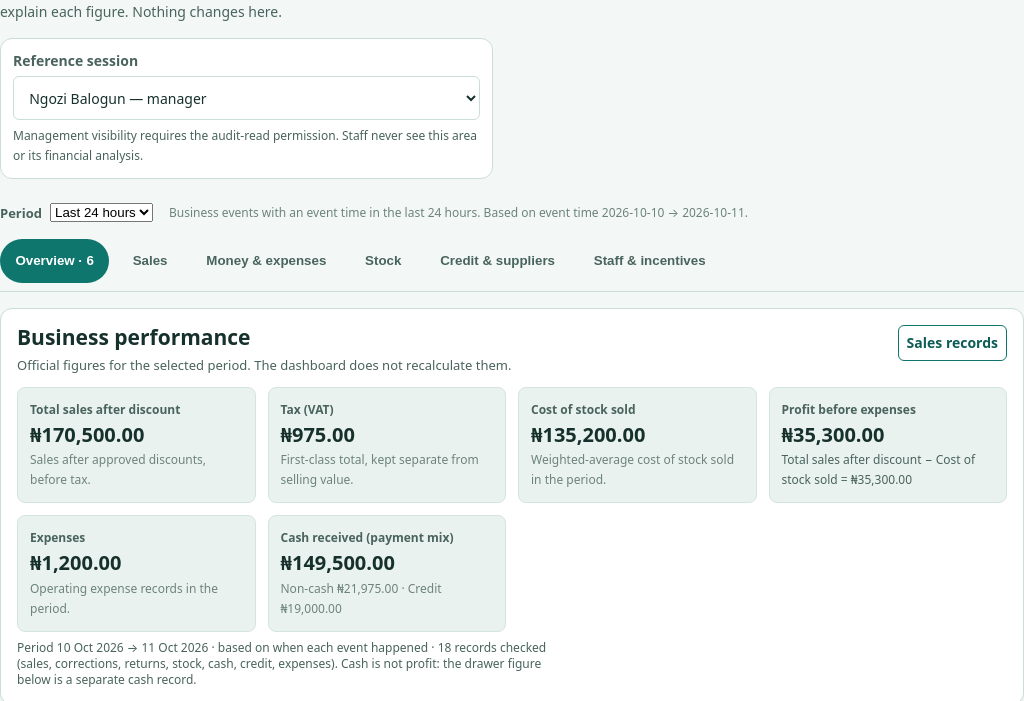
Test: management dashboard › shows staff performance and incentive visibility without payout logic
Click the tab "Staff & incentives" at (650, 261), box [578,239,721,283]
(page scrolled)
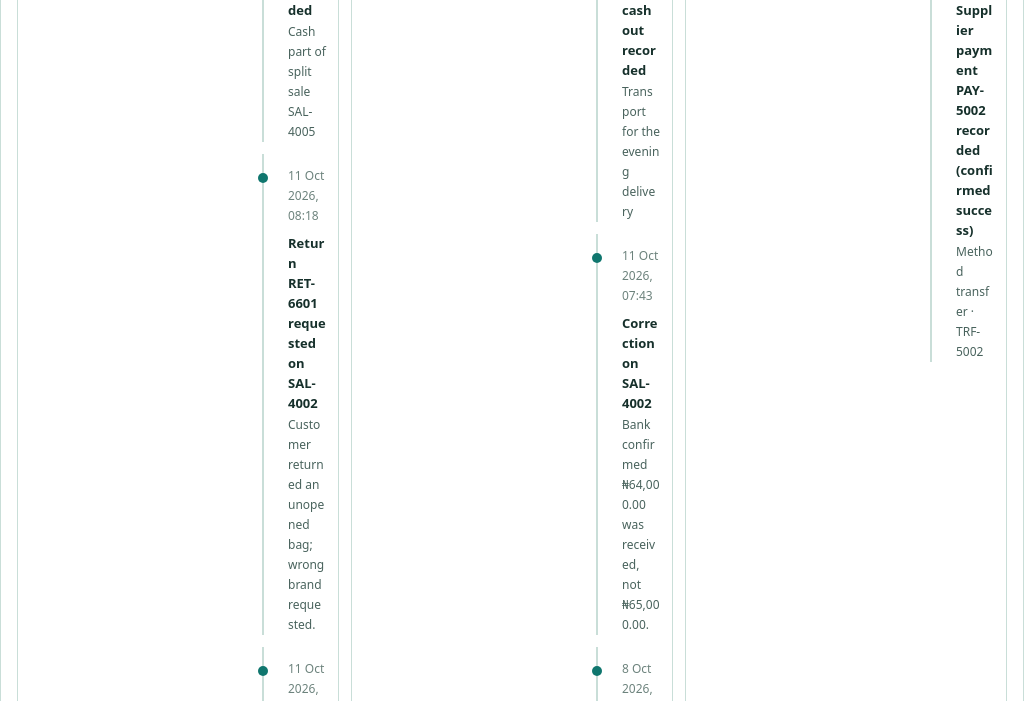
expect the text "Return RET-6601 requested on SAL-4002" is shown: met, box [288,233,326,413]
